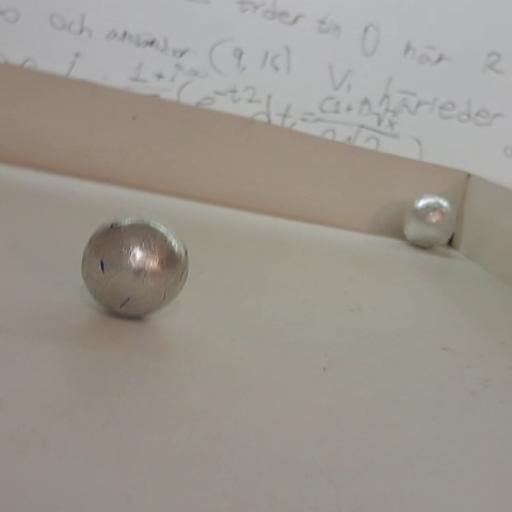alive: (81, 216, 188, 318), (403, 194, 456, 248)
